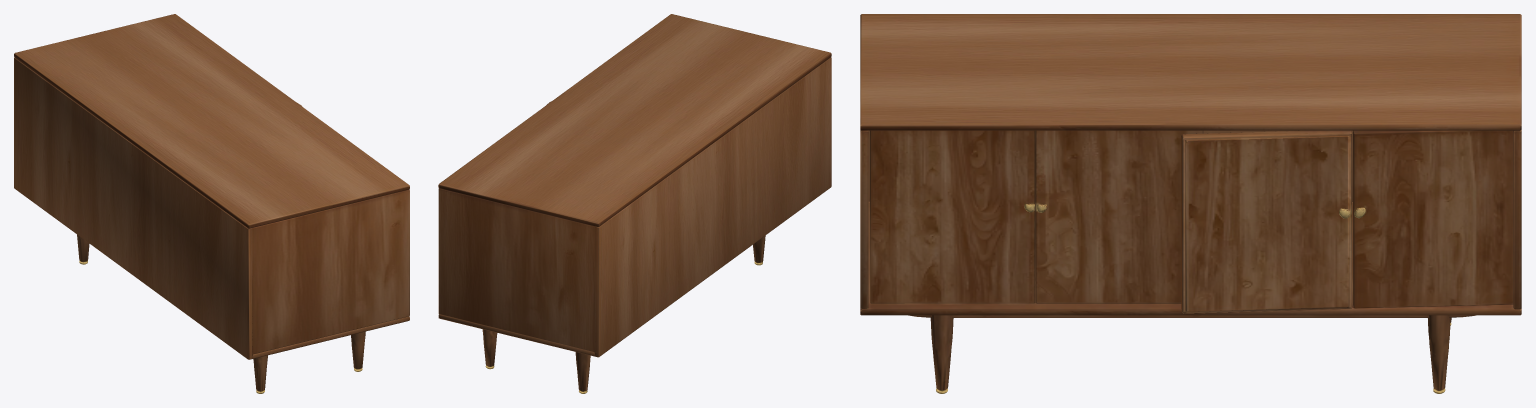
File: low-cabinet.glb
The picture shows the model from 3 angles, left to right: view 1: azimuth 30°, elevation 25°; view 2: azimuth 150°, elevation 25°; view 3: azimuth 270°, elevation 25°; orthographic projection. The views are drawn at different scales.
Parts seen in each view (by area): view 1: tripo_node_89f077a7-b774-41c9-9845-4adf9d643efa; view 2: tripo_node_89f077a7-b774-41c9-9845-4adf9d643efa; view 3: tripo_node_89f077a7-b774-41c9-9845-4adf9d643efa.
Part boxes in pixels (x1,y1,x2,y2): tripo_node_89f077a7-b774-41c9-9845-4adf9d643efa: (14, 14, 409, 393); tripo_node_89f077a7-b774-41c9-9845-4adf9d643efa: (438, 14, 831, 393); tripo_node_89f077a7-b774-41c9-9845-4adf9d643efa: (860, 14, 1521, 393).
Bounding box in the file's own units: 0.75 × 0.85 × 1.8.
1 material, 1 textured.
